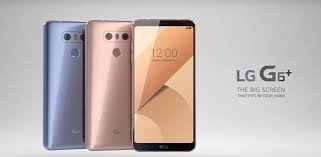lg: (127, 16, 198, 152)
